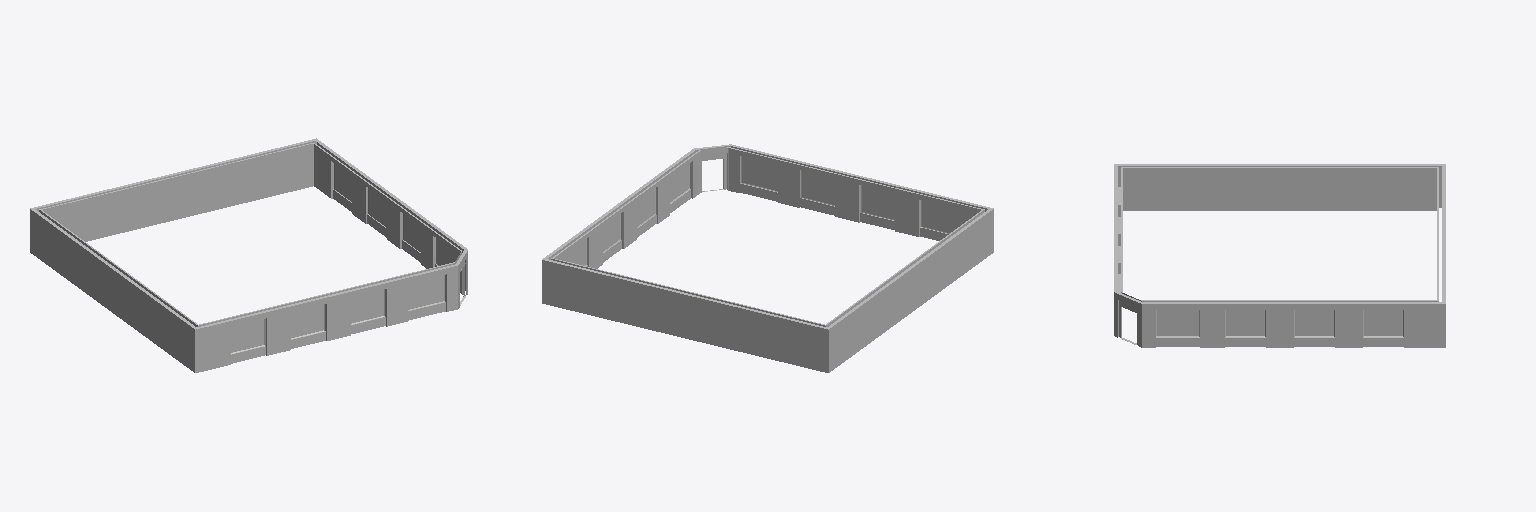
Rendered from Building_LevelModular_Bottom_LOD1.obj.
3 views of the same model, side by side, from view 1: azimuth 30°, elevation 25°; view 2: azimuth 150°, elevation 25°; view 3: azimuth 270°, elevation 25° (orthographic).
Parts seen in each view (by area): view 1: Building_LevelModular_Bottom_LOD1 Building_LevelModular_Bottom; view 2: Building_LevelModular_Bottom_LOD1 Building_LevelModular_Bottom; view 3: Building_LevelModular_Bottom_LOD1 Building_LevelModular_Bottom.
Part boxes in pixels (left/top/right/bottom): Building_LevelModular_Bottom_LOD1 Building_LevelModular_Bottom: left=30, top=138, right=467, bottom=372; Building_LevelModular_Bottom_LOD1 Building_LevelModular_Bottom: left=542, top=144, right=993, bottom=372; Building_LevelModular_Bottom_LOD1 Building_LevelModular_Bottom: left=1114, top=164, right=1445, bottom=347.
Bounding box in the file's own units: 2400 × 350 × 2400.